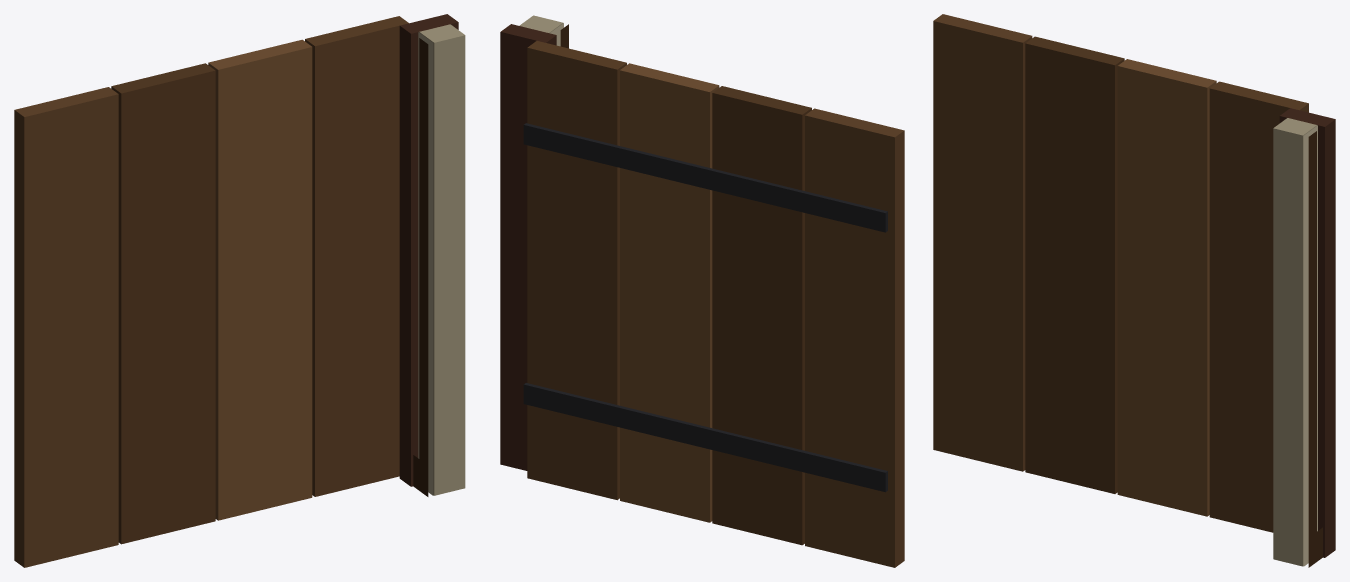
The model's file is wall-halftimber-door-open-low-r.glb.
3 views of the same model, side by side, from view 1: azimuth 30°, elevation 25°; view 2: azimuth 150°, elevation 25°; view 3: azimuth 330°, elevation 25° (orthographic). The views are drawn at different scales.
Parts seen in each view (by area): view 1: wall-halftimber-door-open-low-r; view 2: wall-halftimber-door-open-low-r; view 3: wall-halftimber-door-open-low-r.
Part boxes in pixels (x1,y1,x2,y2): wall-halftimber-door-open-low-r: (14, 14, 465, 567); wall-halftimber-door-open-low-r: (500, 15, 904, 567); wall-halftimber-door-open-low-r: (933, 14, 1335, 567).
Bounding box in the file's own units: 0.977 × 1 × 0.155.
